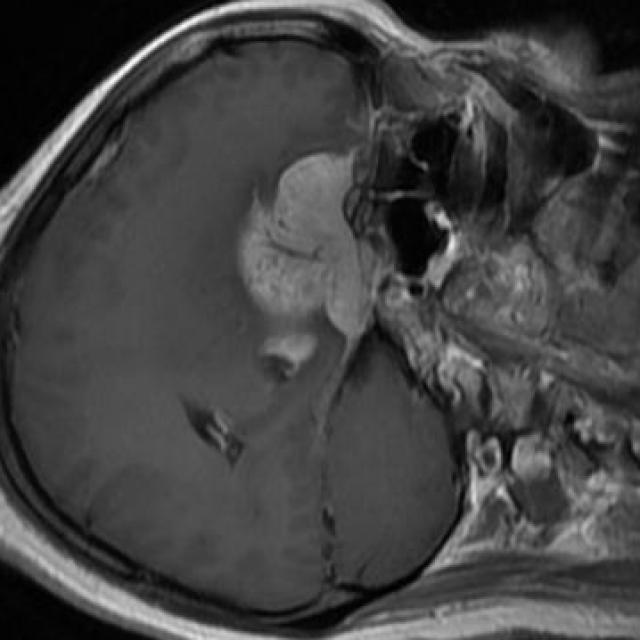meningioma: (239, 152, 378, 365)
